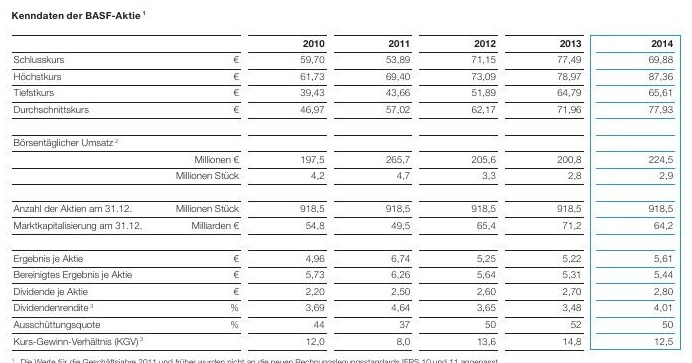table: (0, 0, 692, 363)
